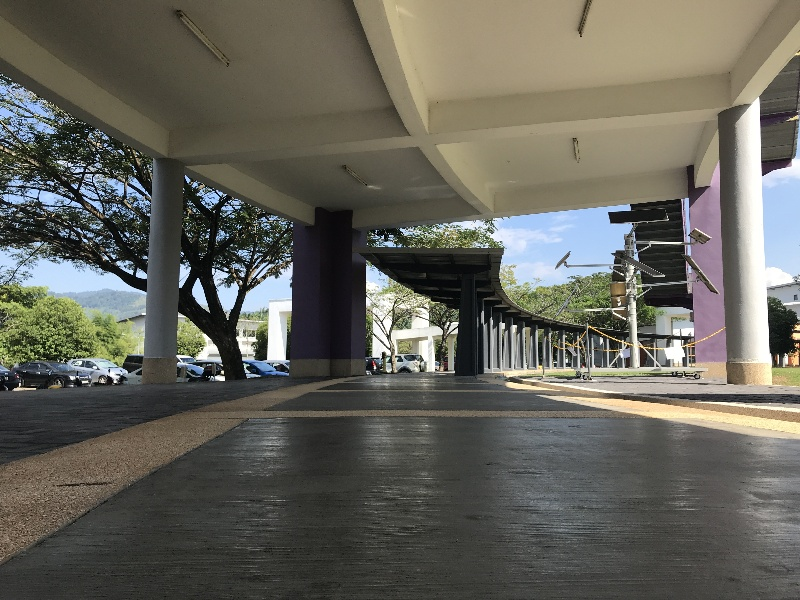Block D Pillar 5: (5, 6, 800, 536)
pillar: (712, 100, 786, 402), (273, 200, 386, 386), (134, 149, 194, 395), (683, 149, 738, 386), (447, 264, 485, 377)
